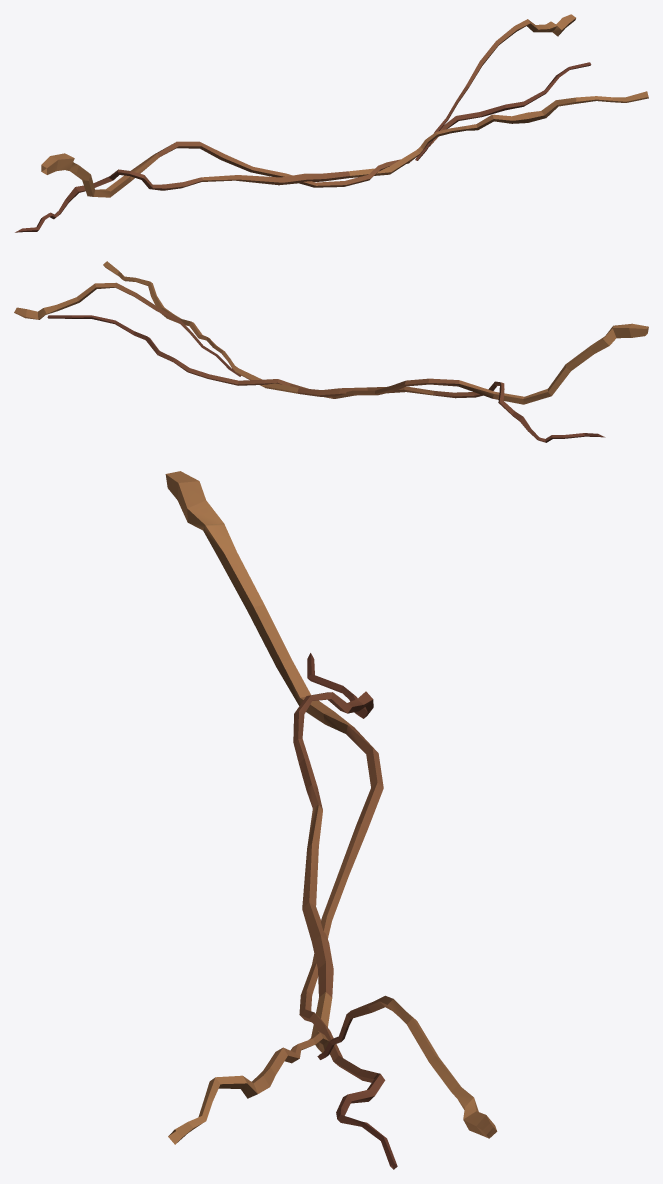
The model's file is ZLP_Plant_Vine_A_2.FBX.
3 renders of one model, top to bottom at view 1: azimuth 30°, elevation 25°; view 2: azimuth 150°, elevation 25°; view 3: azimuth 270°, elevation 25°, orthographic. The views are drawn at different scales.
Visible parts, largest first — view 1: ZLP_Plant_Vine_A_2; view 2: ZLP_Plant_Vine_A_2; view 3: ZLP_Plant_Vine_A_2.
Boxes of the visible parts, <box> form: ZLP_Plant_Vine_A_2: <box>15,14,648,232</box>; ZLP_Plant_Vine_A_2: <box>14,261,648,442</box>; ZLP_Plant_Vine_A_2: <box>165,471,497,1169</box>.
Size of the model in its own units: 1174 by 242 by 303.
